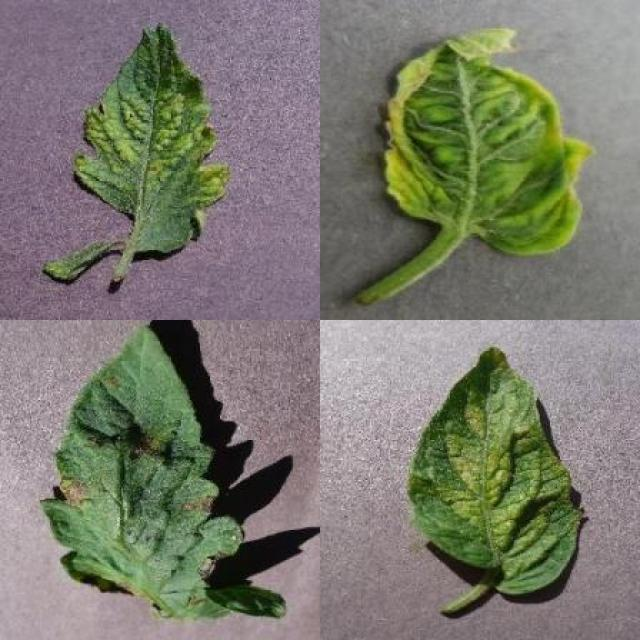Early Blight: (45, 327, 288, 622)
Mosaic Virus: (70, 20, 237, 253), (36, 240, 116, 284)
Spider Mites: (407, 345, 582, 595)
Yellow Leaf Curl Virus: (379, 25, 596, 258)
